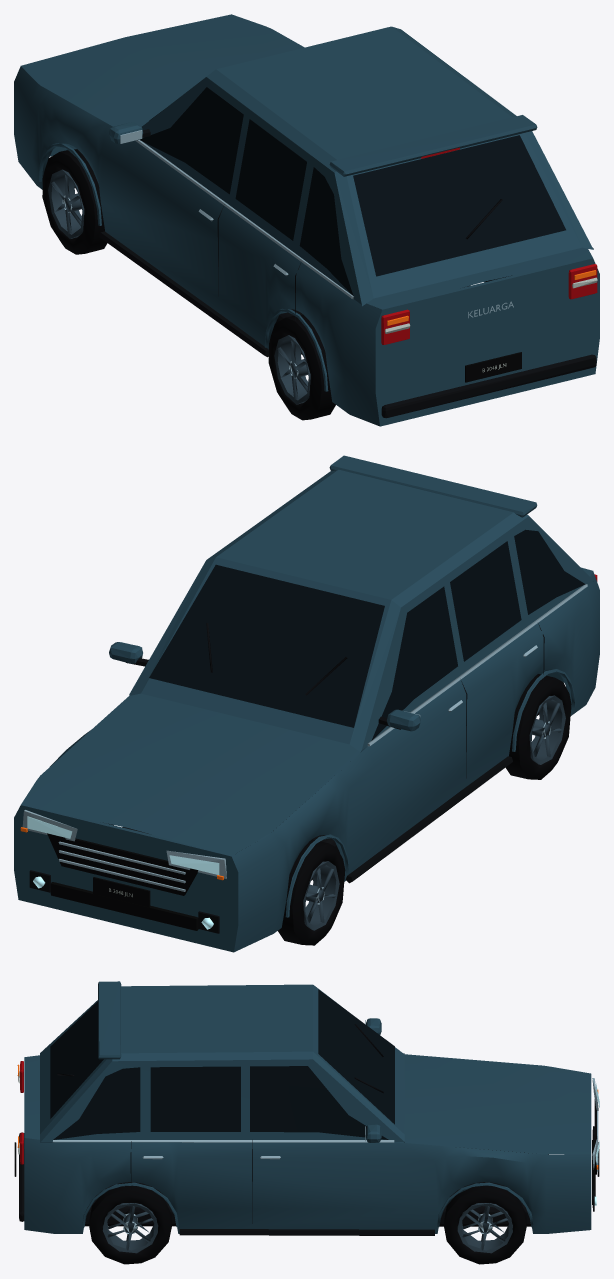
The model's file is family_mpv_deep_blue_lod1.glb.
3 renders of one model, top to bottom at view 1: azimuth 30°, elevation 25°; view 2: azimuth 150°, elevation 25°; view 3: azimuth 270°, elevation 25°, orthographic. The views are drawn at different scales.
Visible parts, largest first — view 1: Body_Mesh, Wheel_RL_Mesh, Wheel_FL_Mesh, TailLights_Mesh; view 2: Body_Mesh, Wheel_FL_Mesh, Wheel_RL_Mesh, Headlights_Mesh; view 3: Body_Mesh, Wheel_FR_Mesh, Wheel_RR_Mesh.
Boxes of the visible parts, bbox=[...] form: Body_Mesh: bbox=[14, 14, 599, 426]; Wheel_RL_Mesh: bbox=[268, 314, 335, 420]; Wheel_FL_Mesh: bbox=[42, 149, 107, 254]; TailLights_Mesh: bbox=[381, 147, 597, 344]; Body_Mesh: bbox=[14, 455, 599, 952]; Wheel_FL_Mesh: bbox=[278, 839, 345, 945]; Wheel_RL_Mesh: bbox=[505, 674, 571, 779]; Headlights_Mesh: bbox=[22, 810, 226, 929]; Body_Mesh: bbox=[14, 981, 599, 1235]; Wheel_FR_Mesh: bbox=[444, 1182, 526, 1264]; Wheel_RR_Mesh: bbox=[89, 1182, 171, 1264].
Size of the model in its own units: 2.16 by 1.7 by 4.54.
2 materials, 1 textured.
